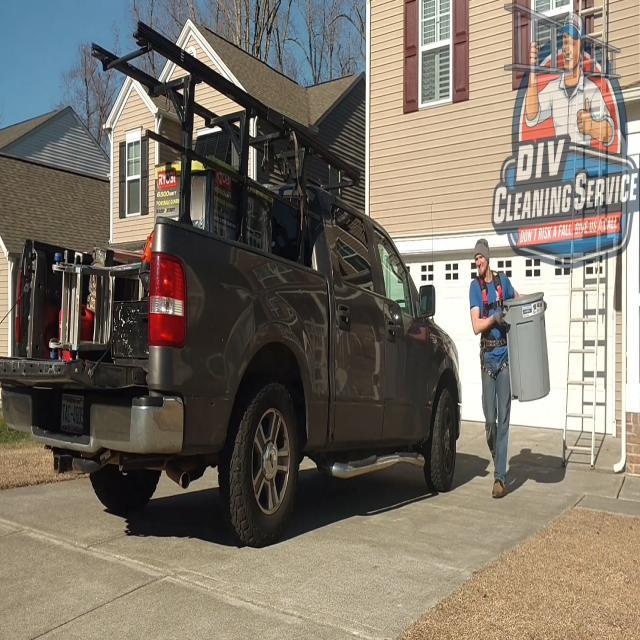belt: (473, 270, 510, 378)
